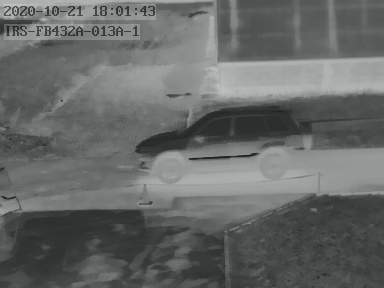vehicle: (133, 105, 304, 183)
